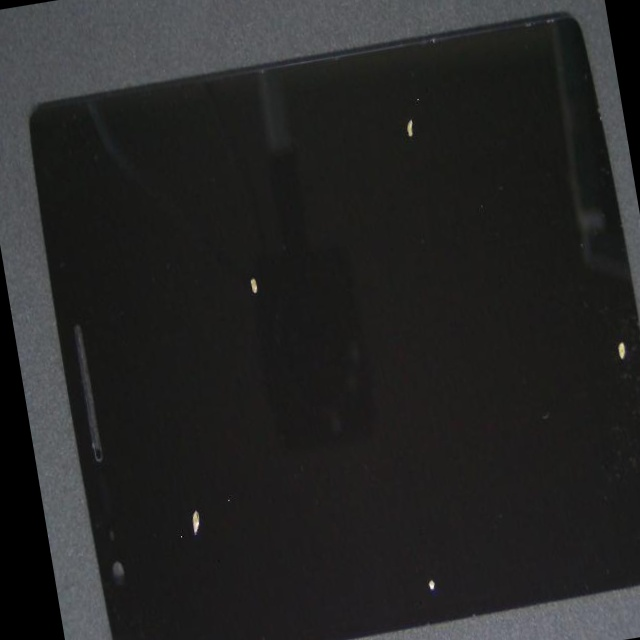stain: (201, 178, 624, 640), (299, 73, 640, 579), (160, 0, 615, 279), (87, 89, 384, 490), (74, 229, 292, 640)
